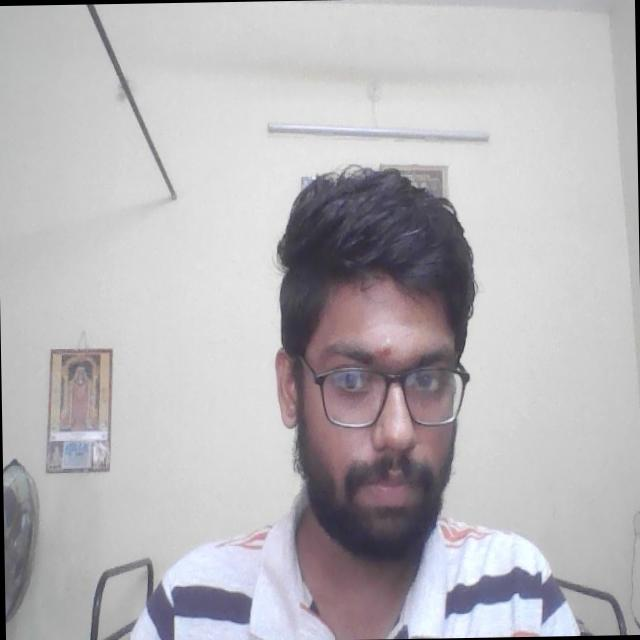Focused: (279, 276, 470, 532)
